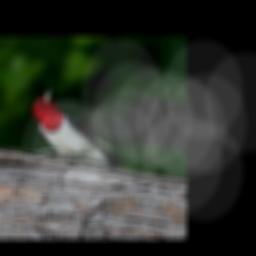Woodpecker: (20, 84, 142, 173)
